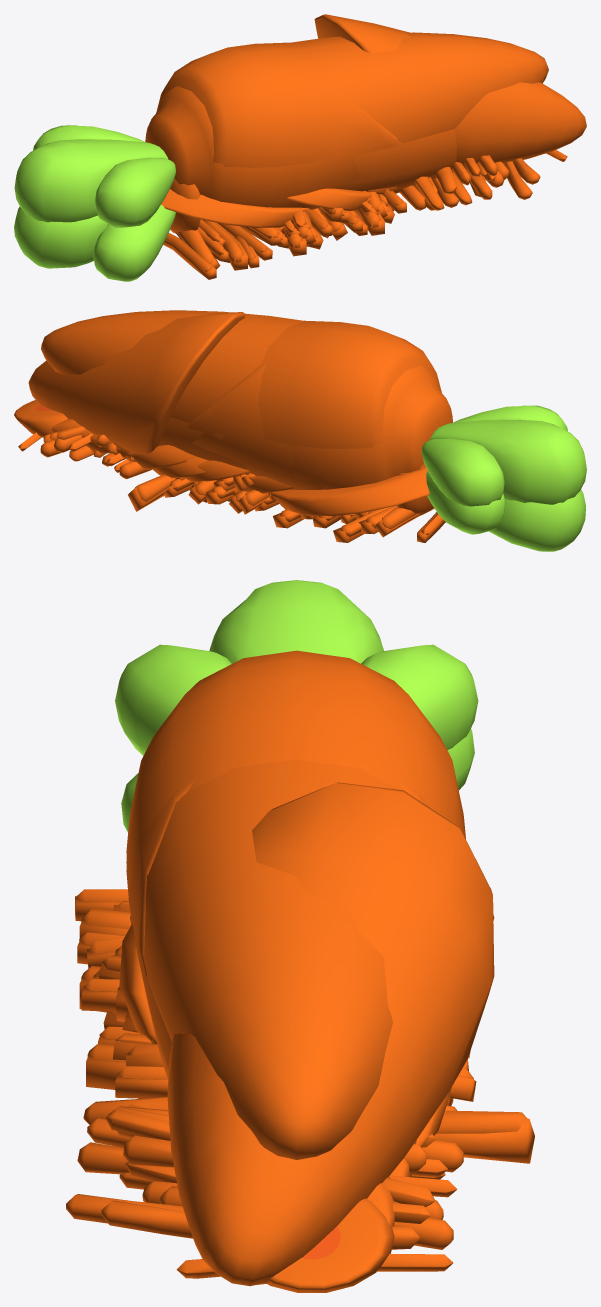
Rendered from carrots.fbx.
The picture shows the model from 3 angles, top to bottom: view 1: azimuth 30°, elevation 25°; view 2: azimuth 150°, elevation 25°; view 3: azimuth 270°, elevation 25°; orthographic projection. The views are drawn at different scales.
Parts seen in each view (by area): view 1: carrot_1, carrot_2, carrot_3, carrot_6, carrot_5, carrot_4; view 2: carrot_1, carrot_2, carrot_3, carrot_4, carrot_6, carrot_5; view 3: carrot_1, carrot_3, carrot_2, carrot_6, carrot_5, carrot_4.
Part boxes in pixels (box(x1,y1,x2,y2)): carrot_1: box(14, 32, 548, 227); carrot_2: box(14, 42, 456, 281); carrot_3: box(272, 14, 586, 209); carrot_6: box(165, 149, 567, 271); carrot_5: box(163, 191, 406, 279); carrot_4: box(161, 186, 402, 227); carrot_1: box(41, 310, 586, 506); carrot_2: box(158, 320, 585, 551); carrot_3: box(28, 312, 322, 489); carrot_4: box(14, 400, 429, 516); carrot_6: box(18, 426, 443, 536); carrot_5: box(51, 419, 445, 542); carrot_1: box(115, 580, 478, 1159); carrot_3: box(126, 781, 494, 1286); carrot_2: box(121, 650, 474, 1079); carrot_6: box(66, 889, 527, 1278); carrot_5: box(75, 896, 534, 1226); carrot_4: box(119, 913, 494, 1292).
Size of the model in its own units: 581 by 172 by 214.
